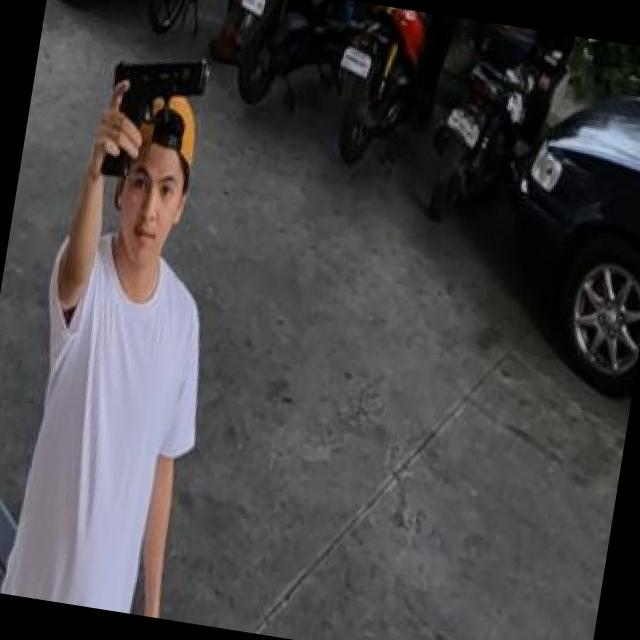Guns: (68, 27, 231, 198)
